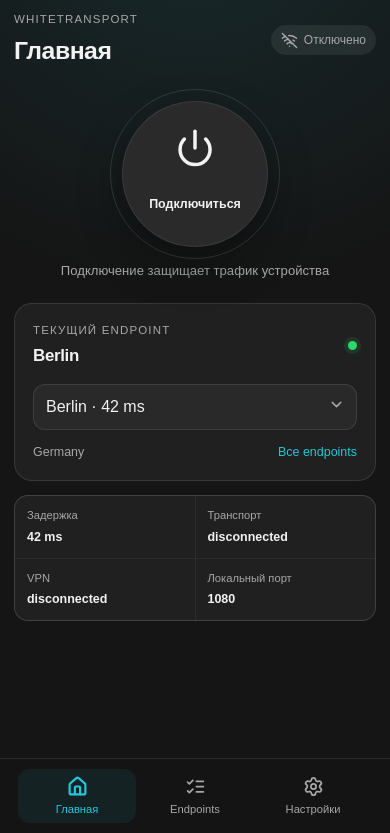
Test: shared native client shell › uses the native split mode vocabulary and surfaces routing failures on Settings
This screenshot has width=390, height=833.
Click the button with test id "nav-settings". click: (313, 796)
box: [254,769,372,823]
(page scrolled)
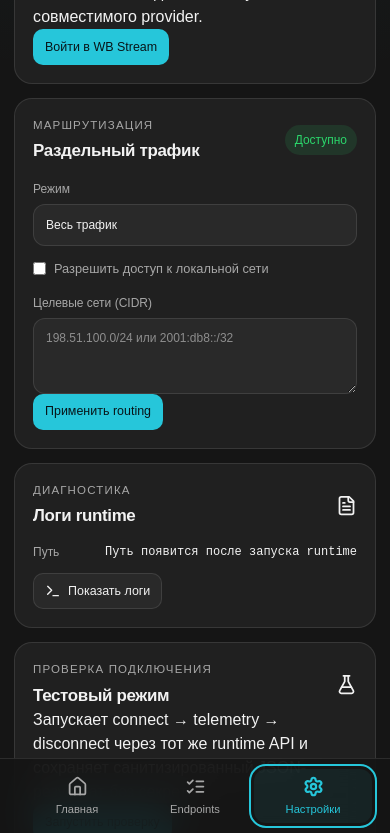
Click the button with test id "split-routing-apply". click: (98, 412)
box: [33,394,163,430]
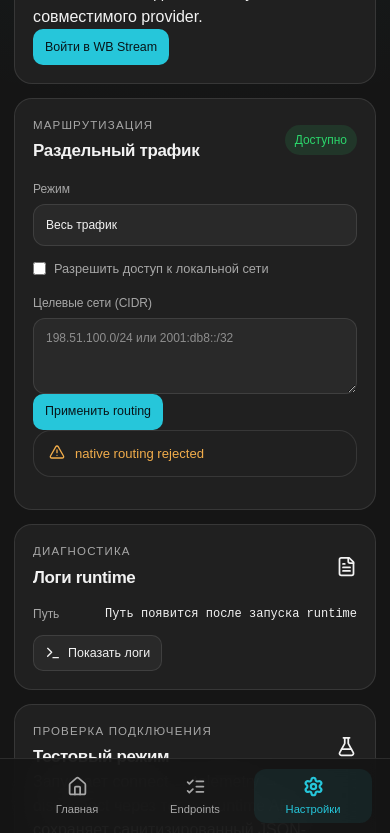
expect the message reads "native routing rejected": met, box [75,446,204,461]
